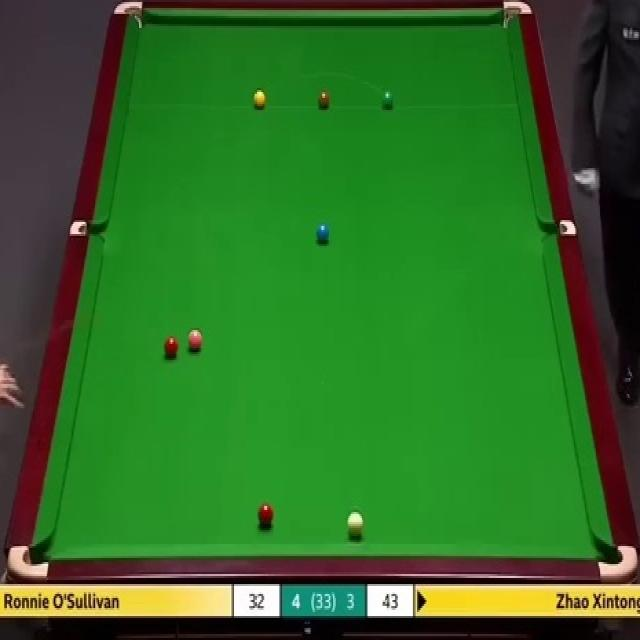pocket: (596, 543, 640, 582), (7, 543, 51, 582), (112, 0, 145, 34), (499, 0, 530, 32), (539, 218, 576, 240), (67, 220, 105, 235)
